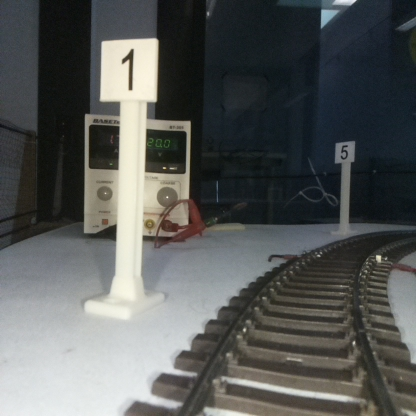white-info-1: (100, 37, 157, 314)
white-info-5: (335, 140, 354, 233)
